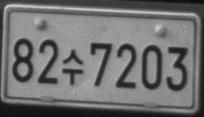0: (140, 44, 163, 90)
2: (114, 42, 137, 87), (37, 38, 58, 84)
3: (166, 46, 188, 91)
7: (89, 41, 112, 87)
8: (12, 37, 34, 83)
수: (61, 49, 84, 85)
